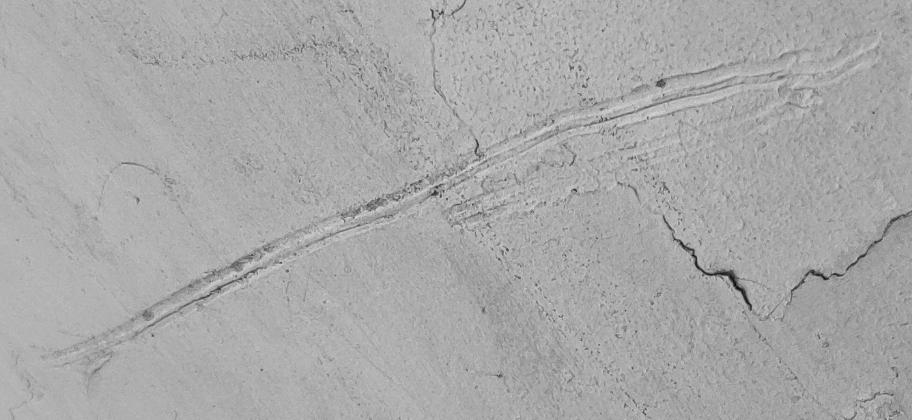scratch: (0, 1, 911, 420)
